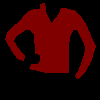maglia: (4, 2, 96, 79)
